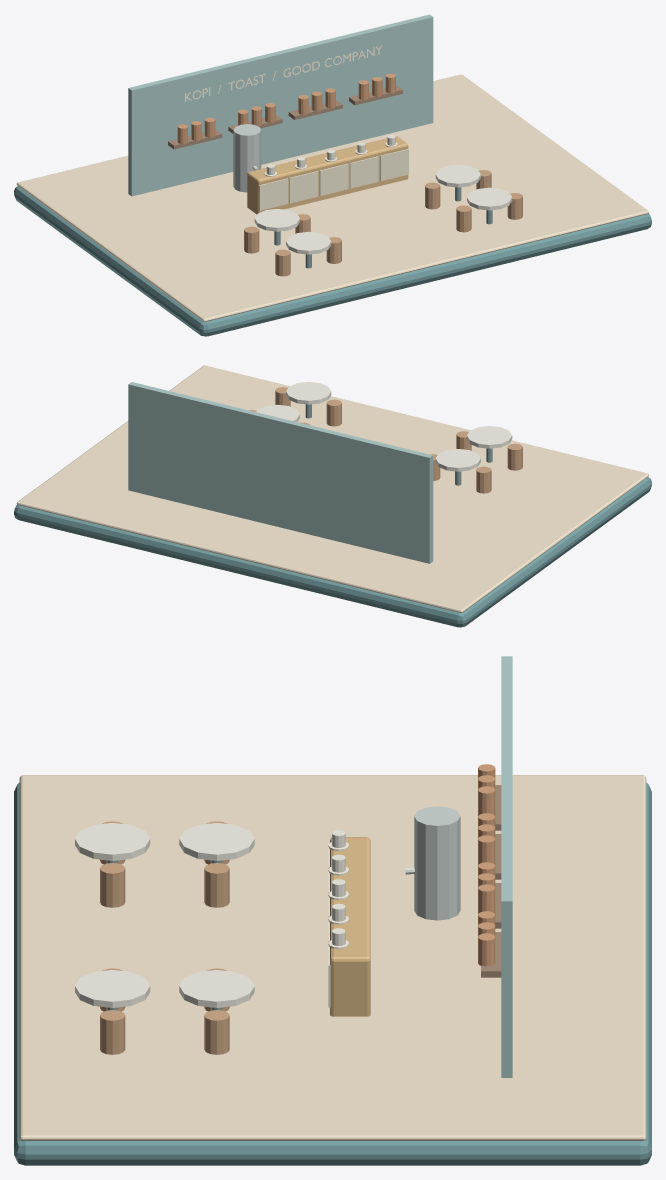
Rendered from kopi.glb.
3 views of the same model, one above another, from view 1: azimuth 30°, elevation 25°; view 2: azimuth 150°, elevation 25°; view 3: azimuth 270°, elevation 25° (orthographic). The views are drawn at different scales.
Parts seen in each view (by area): view 1: Paving, Coffee shop back wall, Stage base, Tiled counter, Coffee urn, Marble table.001, Marble table.002, Marble table.003, Marble table, Counter tile.001, Counter tile, Counter tile.002 (+3 smaller); view 2: Paving, Coffee shop back wall, Stage base, Marble table, Marble table.001, Marble table.003, Marble table.002, Wood stool, Wood stool.002, Wood stool.006; view 3: Paving, Stage base, Tiled counter, Coffee urn, Coffee shop back wall, Marble table, Marble table.002, Marble table.001, Marble table.003, Wood stool.001, Wood stool.005, Wood stool.003 (+1 smaller).
Part boxes in pixels (x1=…): Paving: x1=16, y1=74, x2=649, y2=321; Coffee shop back wall: x1=128, y1=14, x2=433, y2=196; Stage base: x1=14, y1=186, x2=651, y2=336; Tiled counter: x1=247, y1=136, x2=408, y2=214; Coffee urn: x1=233, y1=124, x2=261, y2=192; Marble table.001: x1=286, y1=231, x2=331, y2=254; Marble table.002: x1=435, y1=164, x2=480, y2=187; Marble table.003: x1=467, y1=187, x2=512, y2=210; Marble table: x1=254, y1=209, x2=299, y2=231; Counter tile.001: x1=289, y1=171, x2=318, y2=203; Counter tile: x1=259, y1=178, x2=288, y2=210; Counter tile.002: x1=319, y1=163, x2=348, y2=195; Paving: x1=16, y1=365, x2=649, y2=612; Coffee shop back wall: x1=128, y1=382, x2=433, y2=563; Stage base: x1=14, y1=477, x2=651, y2=627; Marble table: x1=435, y1=449, x2=480, y2=471; Marble table.001: x1=467, y1=426, x2=512, y2=448; Marble table.003: x1=286, y1=381, x2=331, y2=404; Marble table.002: x1=256, y1=404, x2=299, y2=421; Wood stool: x1=476, y1=466, x2=491, y2=493; Wood stool.002: x1=507, y1=443, x2=522, y2=470; Wood stool.006: x1=326, y1=399, x2=341, y2=426; Paving: x1=19, y1=775, x2=646, y2=1140; Stage base: x1=14, y1=782, x2=651, y2=1165; Tiled counter: x1=330, y1=837, x2=370, y2=1016; Coffee urn: x1=414, y1=806, x2=460, y2=920; Coffee shop back wall: x1=501, y1=656, x2=512, y2=1077; Marble table: x1=179, y1=823, x2=254, y2=860; Marble table.002: x1=179, y1=970, x2=254, y2=1007; Marble table.001: x1=75, y1=823, x2=150, y2=860; Marble table.003: x1=75, y1=970, x2=150, y2=1007; Wood stool.001: x1=204, y1=863, x2=229, y2=907; Wood stool.005: x1=204, y1=1010, x2=229, y2=1054; Wood stool.003: x1=100, y1=863, x2=125, y2=907.
Bounding box in the file's own units: 15 × 3.95 × 11.
